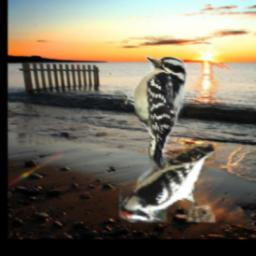Woodpecker: (115, 54, 188, 171), (120, 144, 216, 222)
